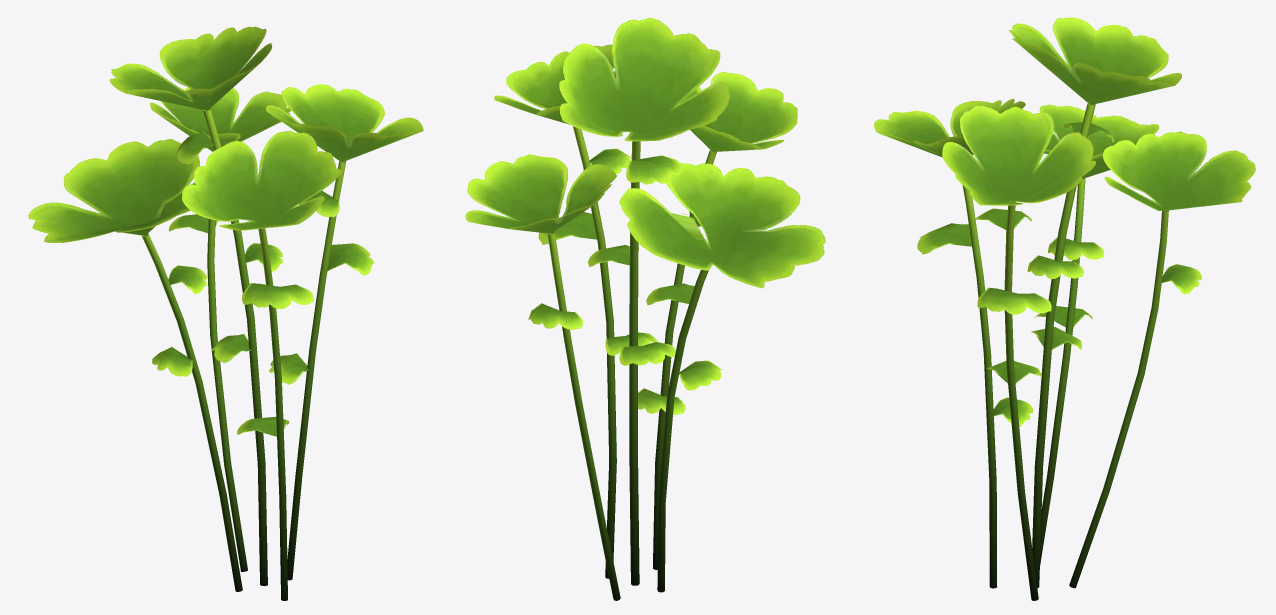
File: Clover_2.gltf
3 renders of one model, left to right at view 1: azimuth 30°, elevation 25°; view 2: azimuth 150°, elevation 25°; view 3: azimuth 270°, elevation 25°, orthographic. The views are drawn at different scales.
Parts seen in each view (by area): view 1: Clover_2; view 2: Clover_2; view 3: Clover_2.
Part boxes in pixels (x1,y1,x2,y2): Clover_2: [28, 26, 423, 600]; Clover_2: [465, 18, 825, 600]; Clover_2: [874, 17, 1255, 600].
Bounding box in the file's own units: 0.8511 × 1.26 × 0.8366.
1 material, 1 textured.
